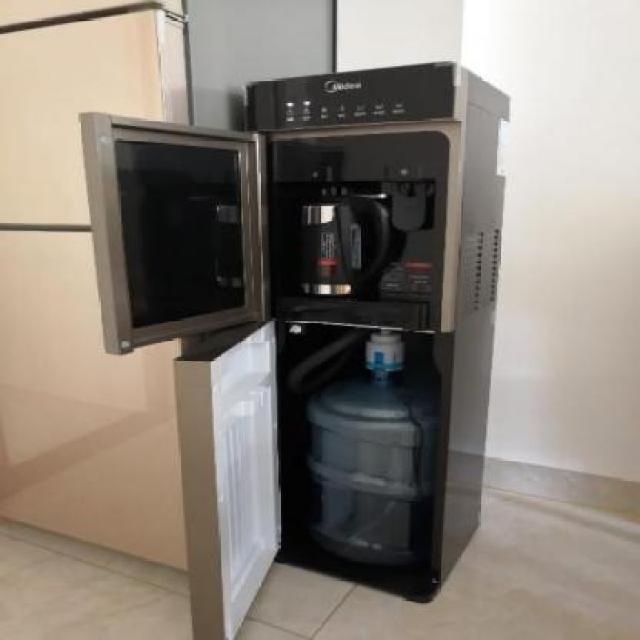cooler: (168, 62, 514, 639)
